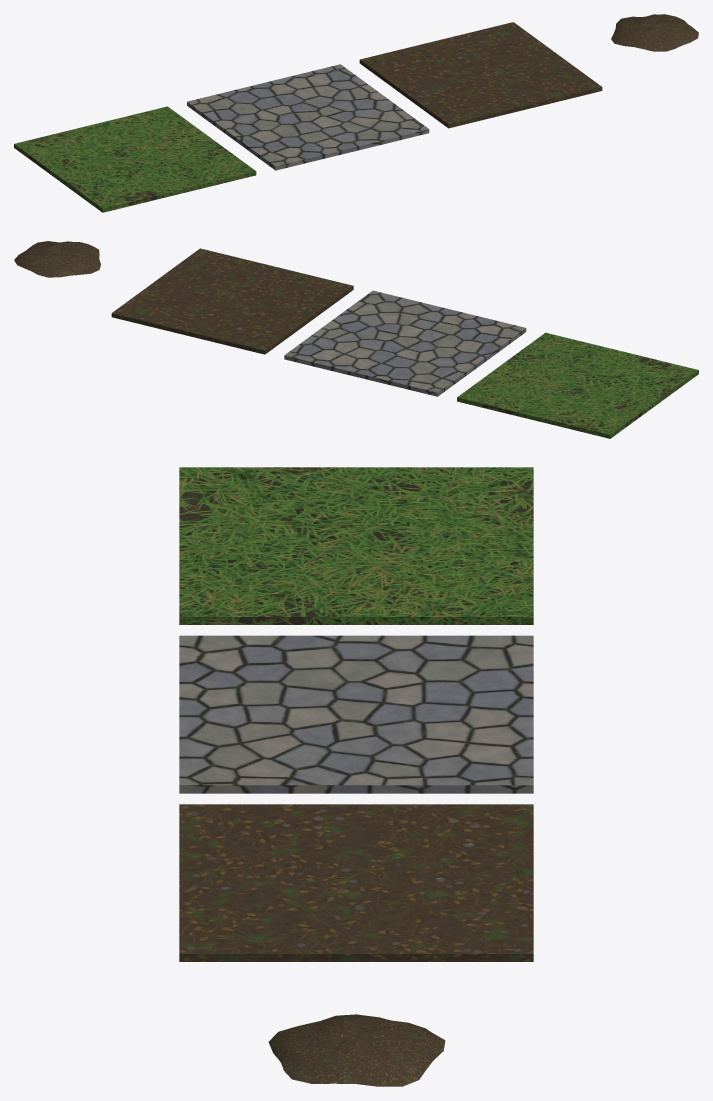
The model's file is GroundMaterialsKit.fbx.
3 renders of one model, top to bottom at view 1: azimuth 30°, elevation 25°; view 2: azimuth 150°, elevation 25°; view 3: azimuth 270°, elevation 25°, orthographic. The views are drawn at different scales.
Parts seen in each view (by area): view 1: Ground_MeadowGrass, Ground_ForestEarth, Ground_MedievalCobble, Ground_MossyRootCollar; view 2: Ground_ForestEarth, Ground_MedievalCobble, Ground_MeadowGrass, Ground_MossyRootCollar; view 3: Ground_MedievalCobble, Ground_ForestEarth, Ground_MeadowGrass, Ground_MossyRootCollar.
Part boxes in pixels (x1,y1,x2,y2): Ground_MeadowGrass: [14, 106, 256, 212]; Ground_ForestEarth: [359, 22, 602, 128]; Ground_MedievalCobble: [187, 64, 429, 170]; Ground_MossyRootCollar: [611, 14, 698, 51]; Ground_ForestEarth: [111, 248, 353, 354]; Ground_MedievalCobble: [284, 290, 526, 396]; Ground_MeadowGrass: [457, 332, 698, 438]; Ground_MossyRootCollar: [14, 241, 100, 277]; Ground_MedievalCobble: [179, 635, 533, 793]; Ground_ForestEarth: [179, 804, 533, 961]; Ground_MeadowGrass: [179, 467, 533, 624]; Ground_MossyRootCollar: [268, 1014, 445, 1086].
Size of the model in its own units: 65.73 by 1.06 by 16.
Materials: 4 (4 with a texture image).
